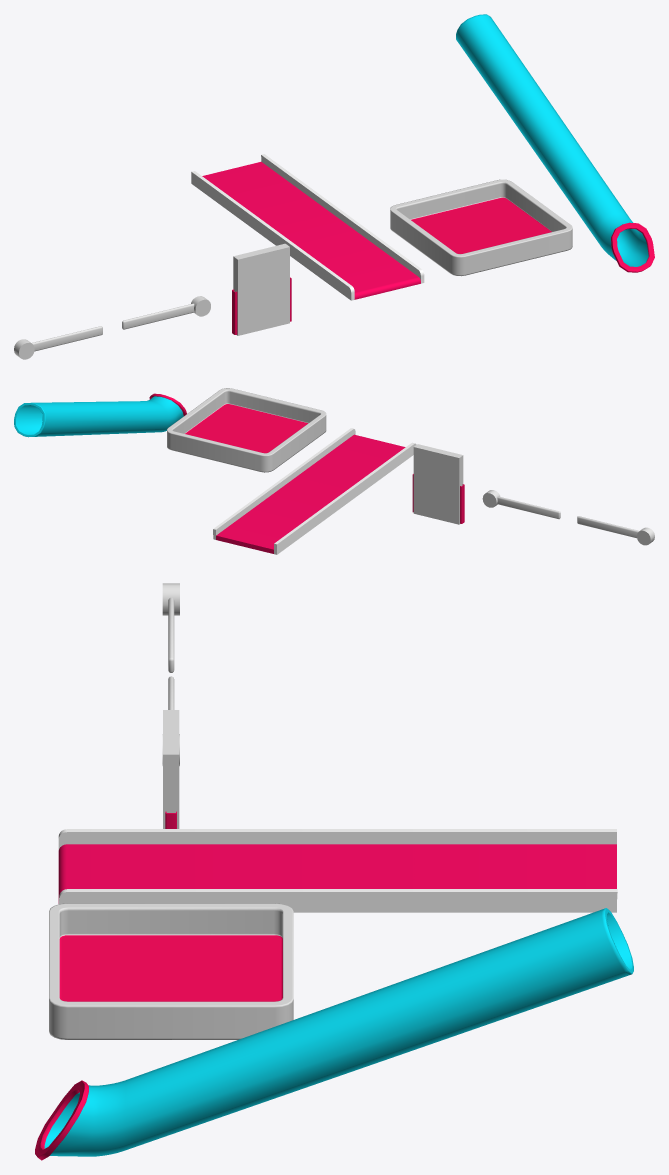
File: candiess.fbx
3 renders of one model, top to bottom at view 1: azimuth 30°, elevation 25°; view 2: azimuth 150°, elevation 25°; view 3: azimuth 270°, elevation 25°, orthographic. The views are drawn at different scales.
Visible parts, largest first — view 1: Cube, Куб.002, Куб, Куб.004, Куб.006, Куб.003; view 2: Cube, Куб, Куб.002, Куб.004, Куб.003, Куб.006, Куб.001; view 3: Cube, Куб.002, Куб, Куб.004, Куб.006.
Part boxes in pixels (<box>): Cube: <box>191,154,424,300</box>; Куб.002: <box>456,14,654,272</box>; Куб: <box>390,179,572,276</box>; Куб.004: <box>233,243,289,335</box>; Куб.006: <box>14,326,102,359</box>; Куб.003: <box>122,296,210,329</box>; Cube: <box>213,428,416,554</box>; Куб: <box>167,388,326,472</box>; Куб.002: <box>14,393,186,437</box>; Куб.004: <box>413,444,463,524</box>; Куб.003: <box>482,490,560,519</box>; Куб.006: <box>577,516,654,545</box>; Куб.001: <box>412,474,464,523</box>; Cube: <box>58,829,617,912</box>; Куб.002: <box>35,908,633,1160</box>; Куб: <box>49,903,293,1039</box>; Куб.004: <box>163,710,179,828</box>; Куб.006: <box>162,583,179,672</box>.
Bounding box in the file's own units: 3573 × 784 × 1753.
